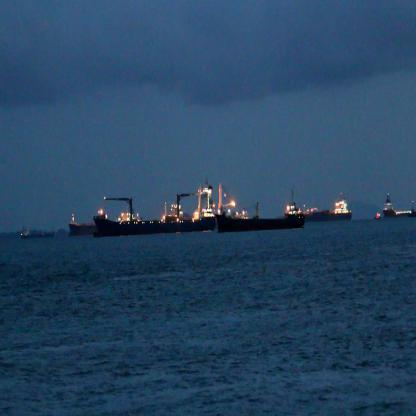Container Ship: (93, 182, 216, 236), (216, 182, 306, 231), (305, 196, 353, 222), (383, 190, 415, 219), (68, 211, 96, 237), (19, 221, 56, 240), (373, 210, 381, 222)
